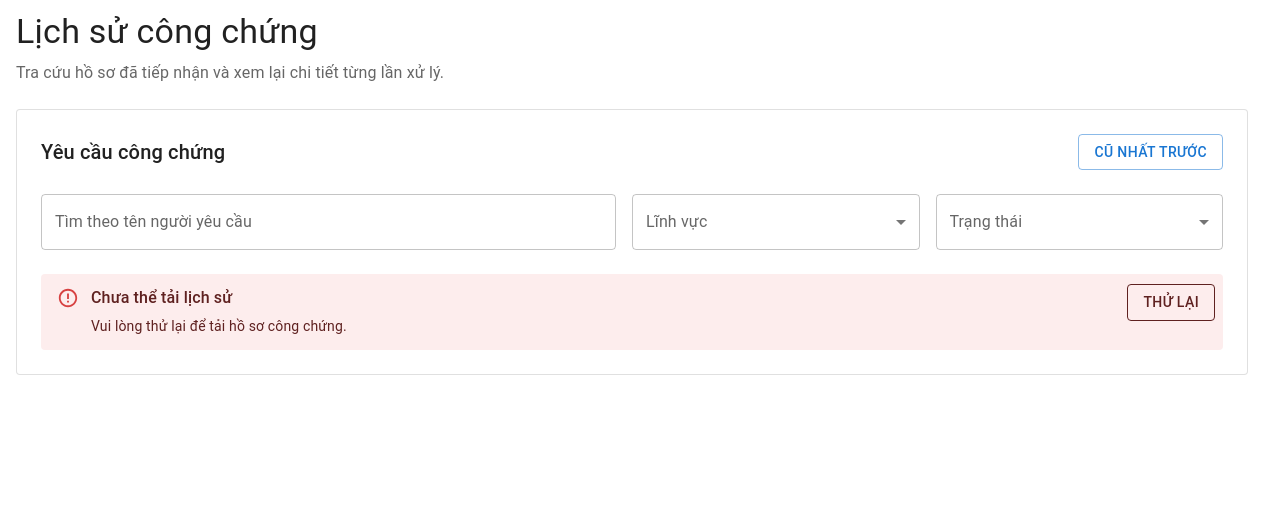
it: history retries an error envelope through the same GET and shows a truthful empty state
Expected: the text "Chưa thể tải lịch sử" is shown, [91,288,232,308]
Click the button "Thử lại" at (1171, 303), box [1127,284,1215,321]
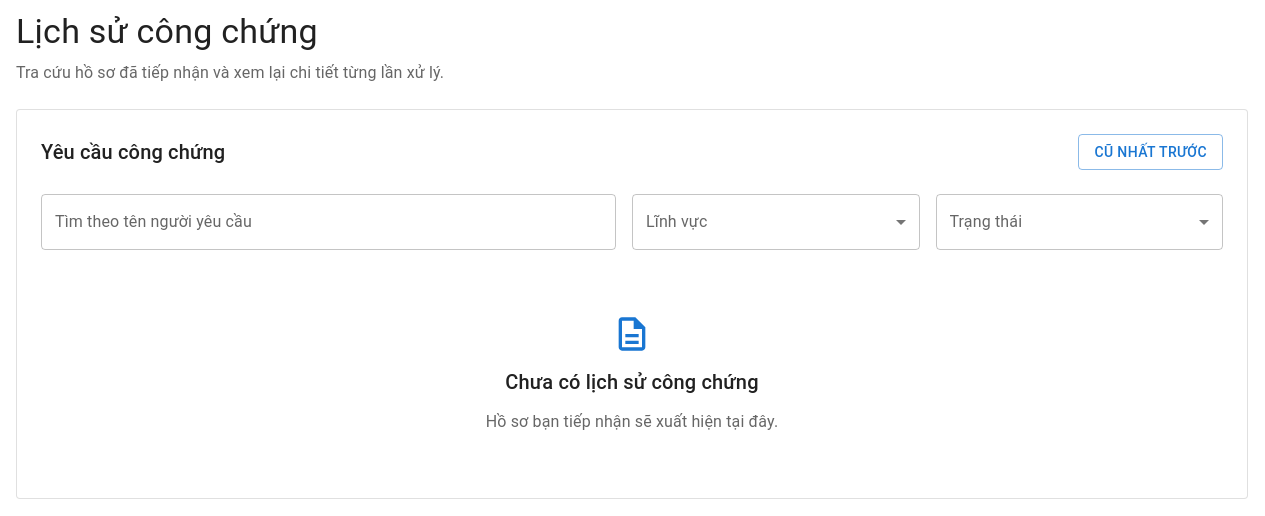
Expected: the heading "Chưa có lịch sử công chứng" is shown, [505,366,759,398]
